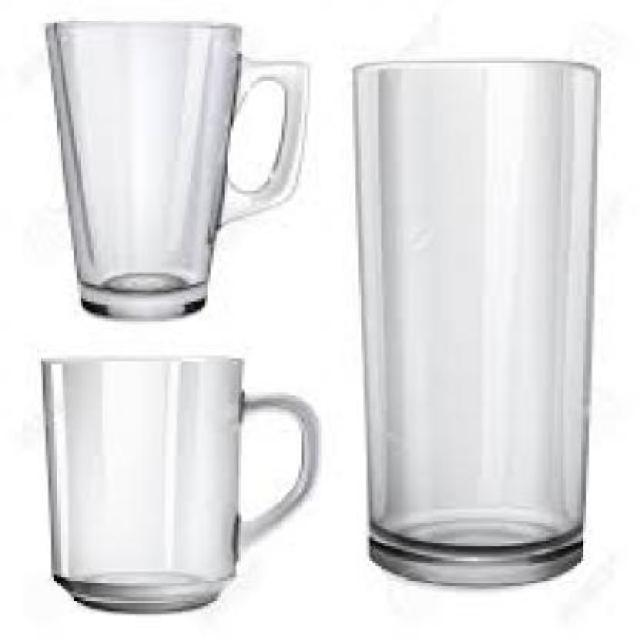kaca: (351, 57, 598, 583), (40, 17, 308, 315), (40, 356, 315, 612)
